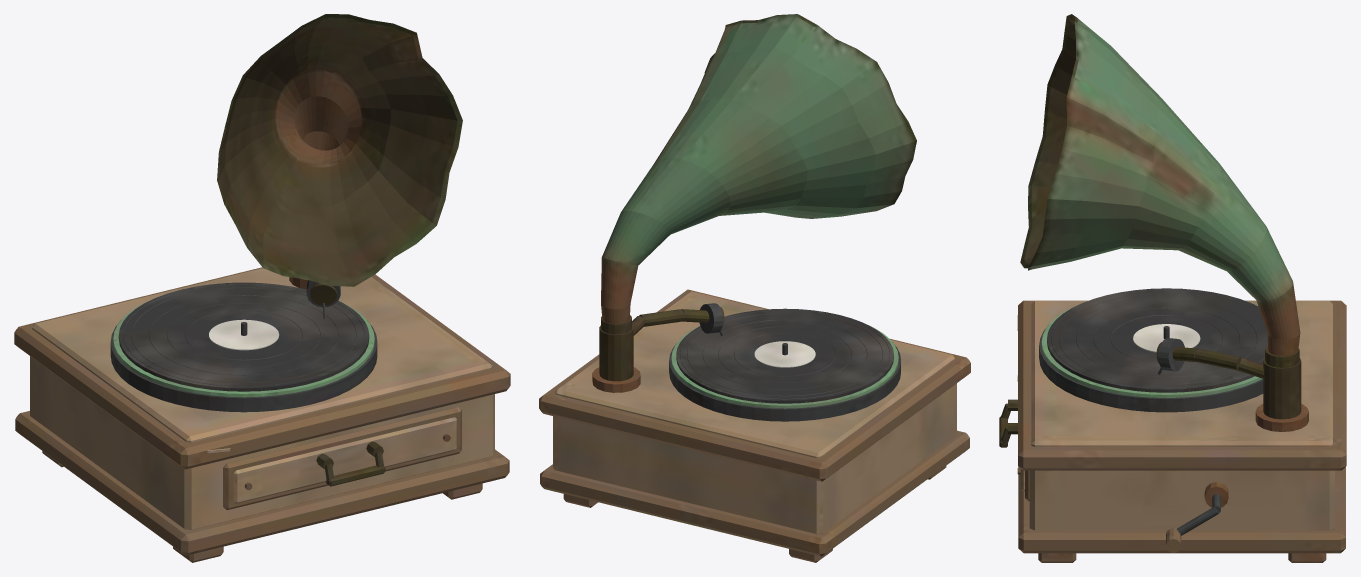
Rendered from L31_gramophone.glb.
3 renders of one model, left to right at view 1: azimuth 30°, elevation 25°; view 2: azimuth 150°, elevation 25°; view 3: azimuth 270°, elevation 25°, orthographic. The views are drawn at different scales.
Visible parts, largest first — view 1: Cabinet foot; view 2: Cabinet foot; view 3: Cabinet foot.
Boxes of the visible parts, x1=… form: Cabinet foot: x1=14, y1=14, x2=510, y2=562; Cabinet foot: x1=539, y1=14, x2=970, y2=562; Cabinet foot: x1=999, y1=14, x2=1346, y2=562.
Size of the model in its own units: 0.4792 by 0.6 by 0.3949.
Materials: 10 (10 with a texture image).
